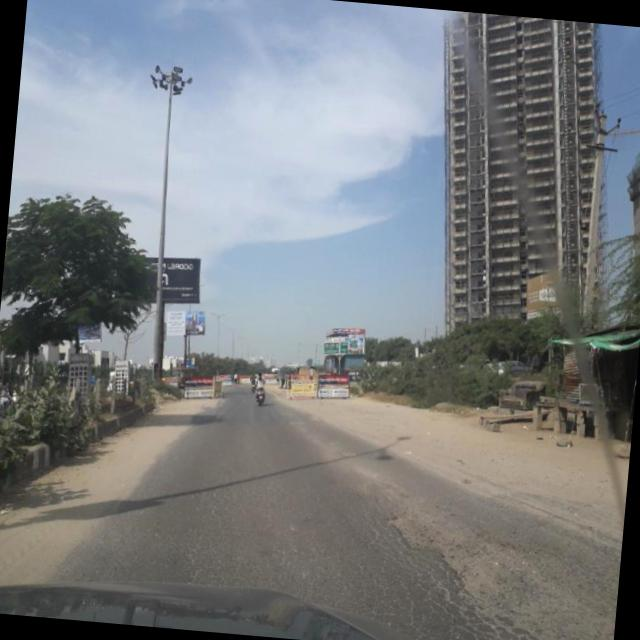crack: (170, 477, 573, 640)
pothole: (368, 490, 623, 640)
